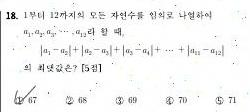choice: (12, 90, 26, 106)
not-choice: (114, 95, 125, 106), (64, 96, 75, 106), (164, 95, 174, 106), (214, 95, 224, 106)
